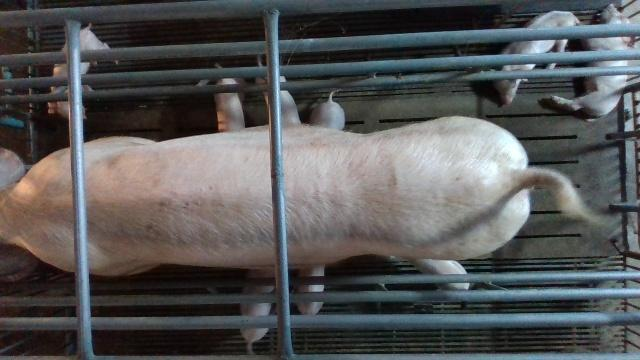piglet: (550, 3, 631, 119), (499, 11, 579, 103), (47, 29, 120, 118), (238, 268, 277, 355), (255, 75, 303, 125), (414, 259, 469, 291), (214, 80, 246, 132), (293, 265, 325, 314), (311, 101, 345, 130)
sow-stand-feed: (0, 114, 609, 280)
